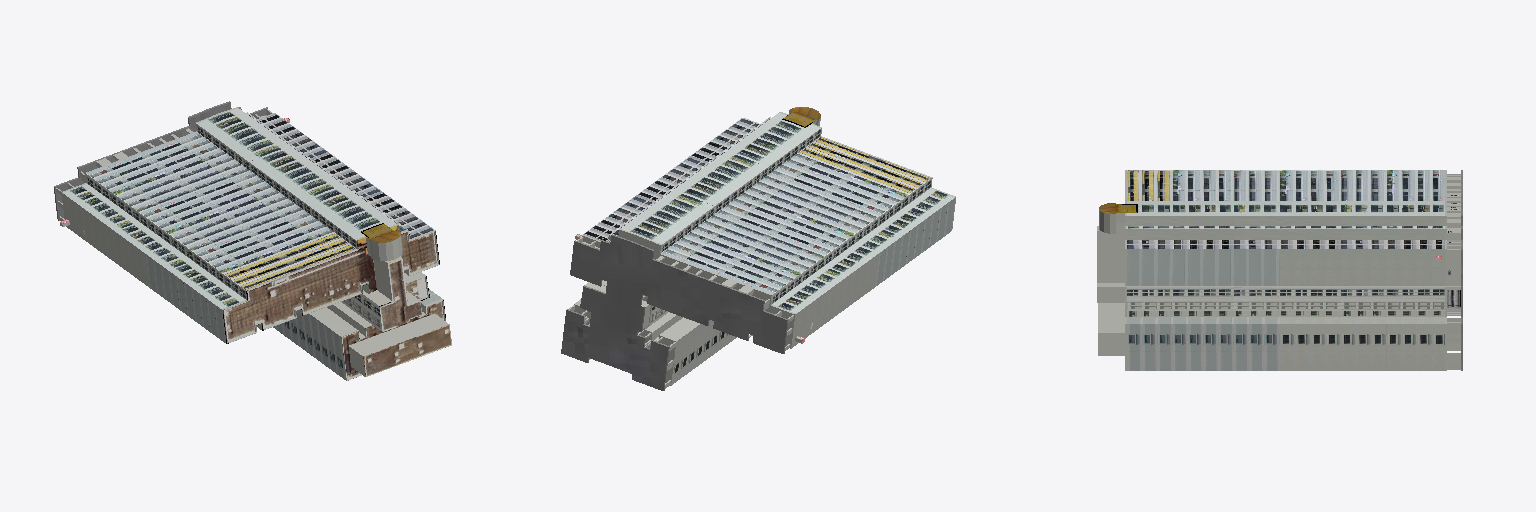
3 views of the same model, side by side, from view 1: azimuth 30°, elevation 25°; view 2: azimuth 150°, elevation 25°; view 3: azimuth 270°, elevation 25° (orthographic).
Visible parts, largest first — view 1: polygon.845; view 2: polygon.845; view 3: polygon.845.
Part boxes in pixels (left/top/right/bottom): polygon.845: left=54, top=101, right=451, bottom=380; polygon.845: left=561, top=107, right=955, bottom=390; polygon.845: left=1097, top=170, right=1462, bottom=370.
Bounding box in the file's own units: 57.47 × 34.1 × 78.79.
1 materials, 1 textured.